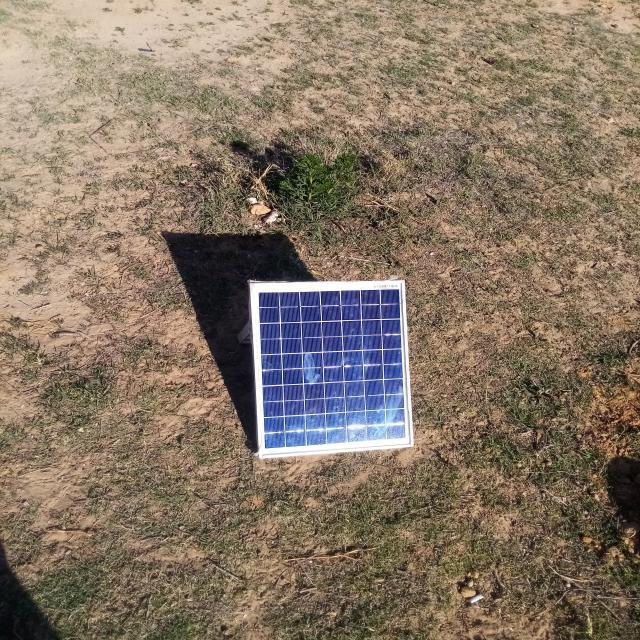no faulty: (251, 282, 412, 457)
